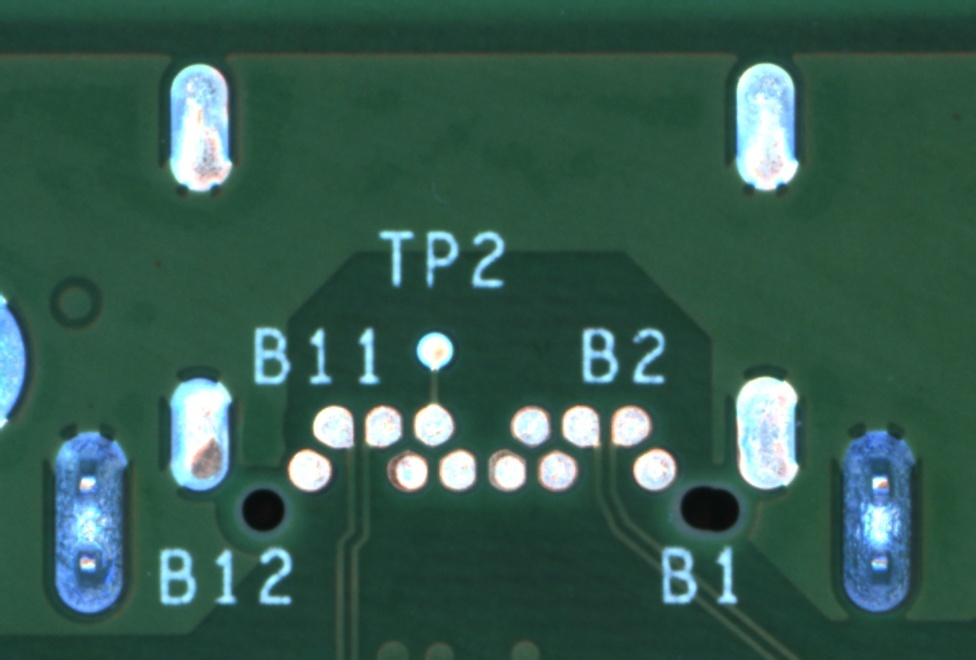SOLDER: (407, 399, 457, 448), (433, 446, 483, 495), (382, 448, 432, 497), (284, 446, 334, 495), (630, 446, 679, 495), (534, 447, 583, 496), (357, 402, 407, 450), (556, 401, 606, 449), (605, 401, 655, 449), (505, 401, 554, 449), (309, 402, 358, 450), (483, 448, 532, 496)
SOLDER2: (34, 417, 142, 625), (824, 416, 932, 624), (721, 52, 809, 204), (724, 354, 812, 506), (154, 55, 242, 207), (153, 357, 241, 509)
